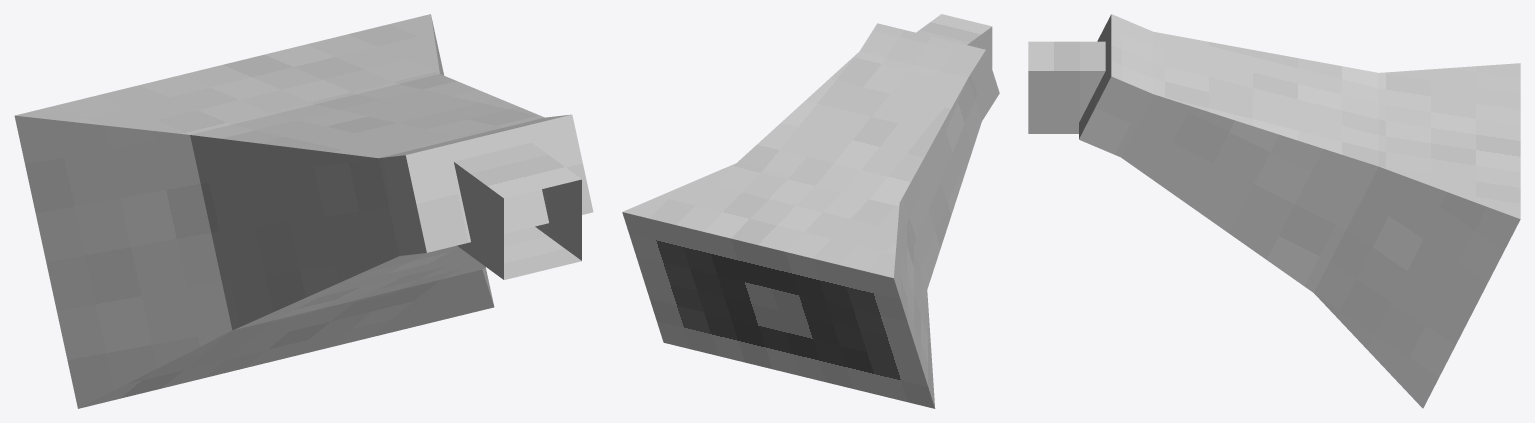
The model's file is speaker_side.obj.
The picture shows the model from 3 angles, left to right: view 1: azimuth 30°, elevation 25°; view 2: azimuth 150°, elevation 25°; view 3: azimuth 270°, elevation 25°; orthographic projection. The views are drawn at different scales.
Parts seen in each view (by area): view 1: mesh; view 2: mesh; view 3: mesh.
Boxes of the visible parts, bbox=[...] form: mesh: bbox=[14, 14, 593, 408]; mesh: bbox=[622, 14, 999, 408]; mesh: bbox=[1028, 14, 1520, 408].
Size of the model in its own units: 0.5 by 0.4265 by 0.6662.
Materials: 1 (1 with a texture image).
